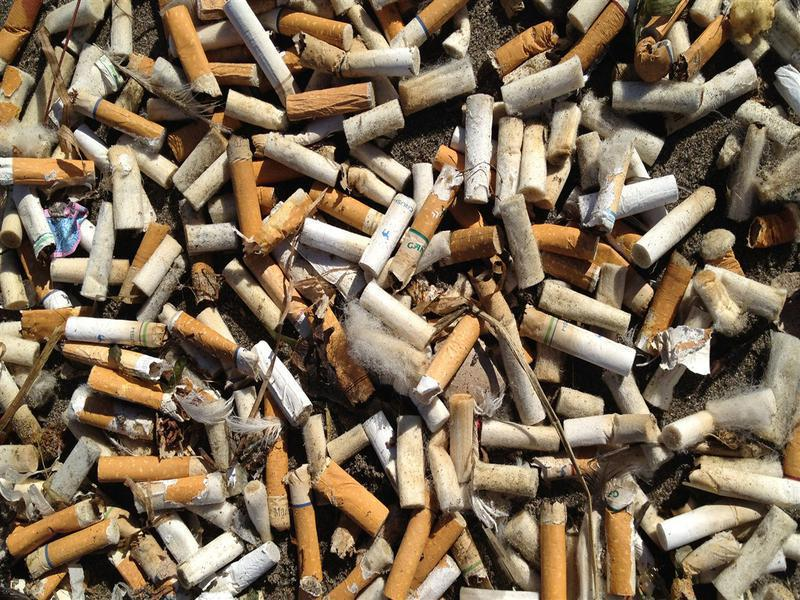burned_cigarette: (515, 304, 639, 378), (626, 186, 722, 269), (277, 462, 334, 598), (159, 4, 232, 104), (287, 29, 427, 80), (679, 453, 800, 512), (166, 308, 264, 380), (410, 314, 487, 405), (308, 453, 391, 536), (354, 274, 440, 353), (65, 87, 168, 151), (218, 133, 271, 257), (653, 497, 765, 555), (23, 517, 123, 580), (536, 278, 637, 340), (500, 54, 594, 120), (597, 478, 648, 599), (5, 496, 102, 559), (493, 190, 548, 296), (357, 189, 418, 283), (99, 143, 158, 235), (256, 344, 319, 429), (261, 131, 347, 193), (456, 88, 500, 208), (82, 364, 177, 417), (282, 76, 378, 127), (608, 72, 707, 121), (558, 407, 664, 452), (390, 413, 437, 514), (486, 19, 565, 79), (532, 496, 577, 600), (63, 308, 170, 349), (89, 449, 210, 485), (477, 411, 564, 459), (129, 232, 187, 300), (515, 121, 554, 202)
